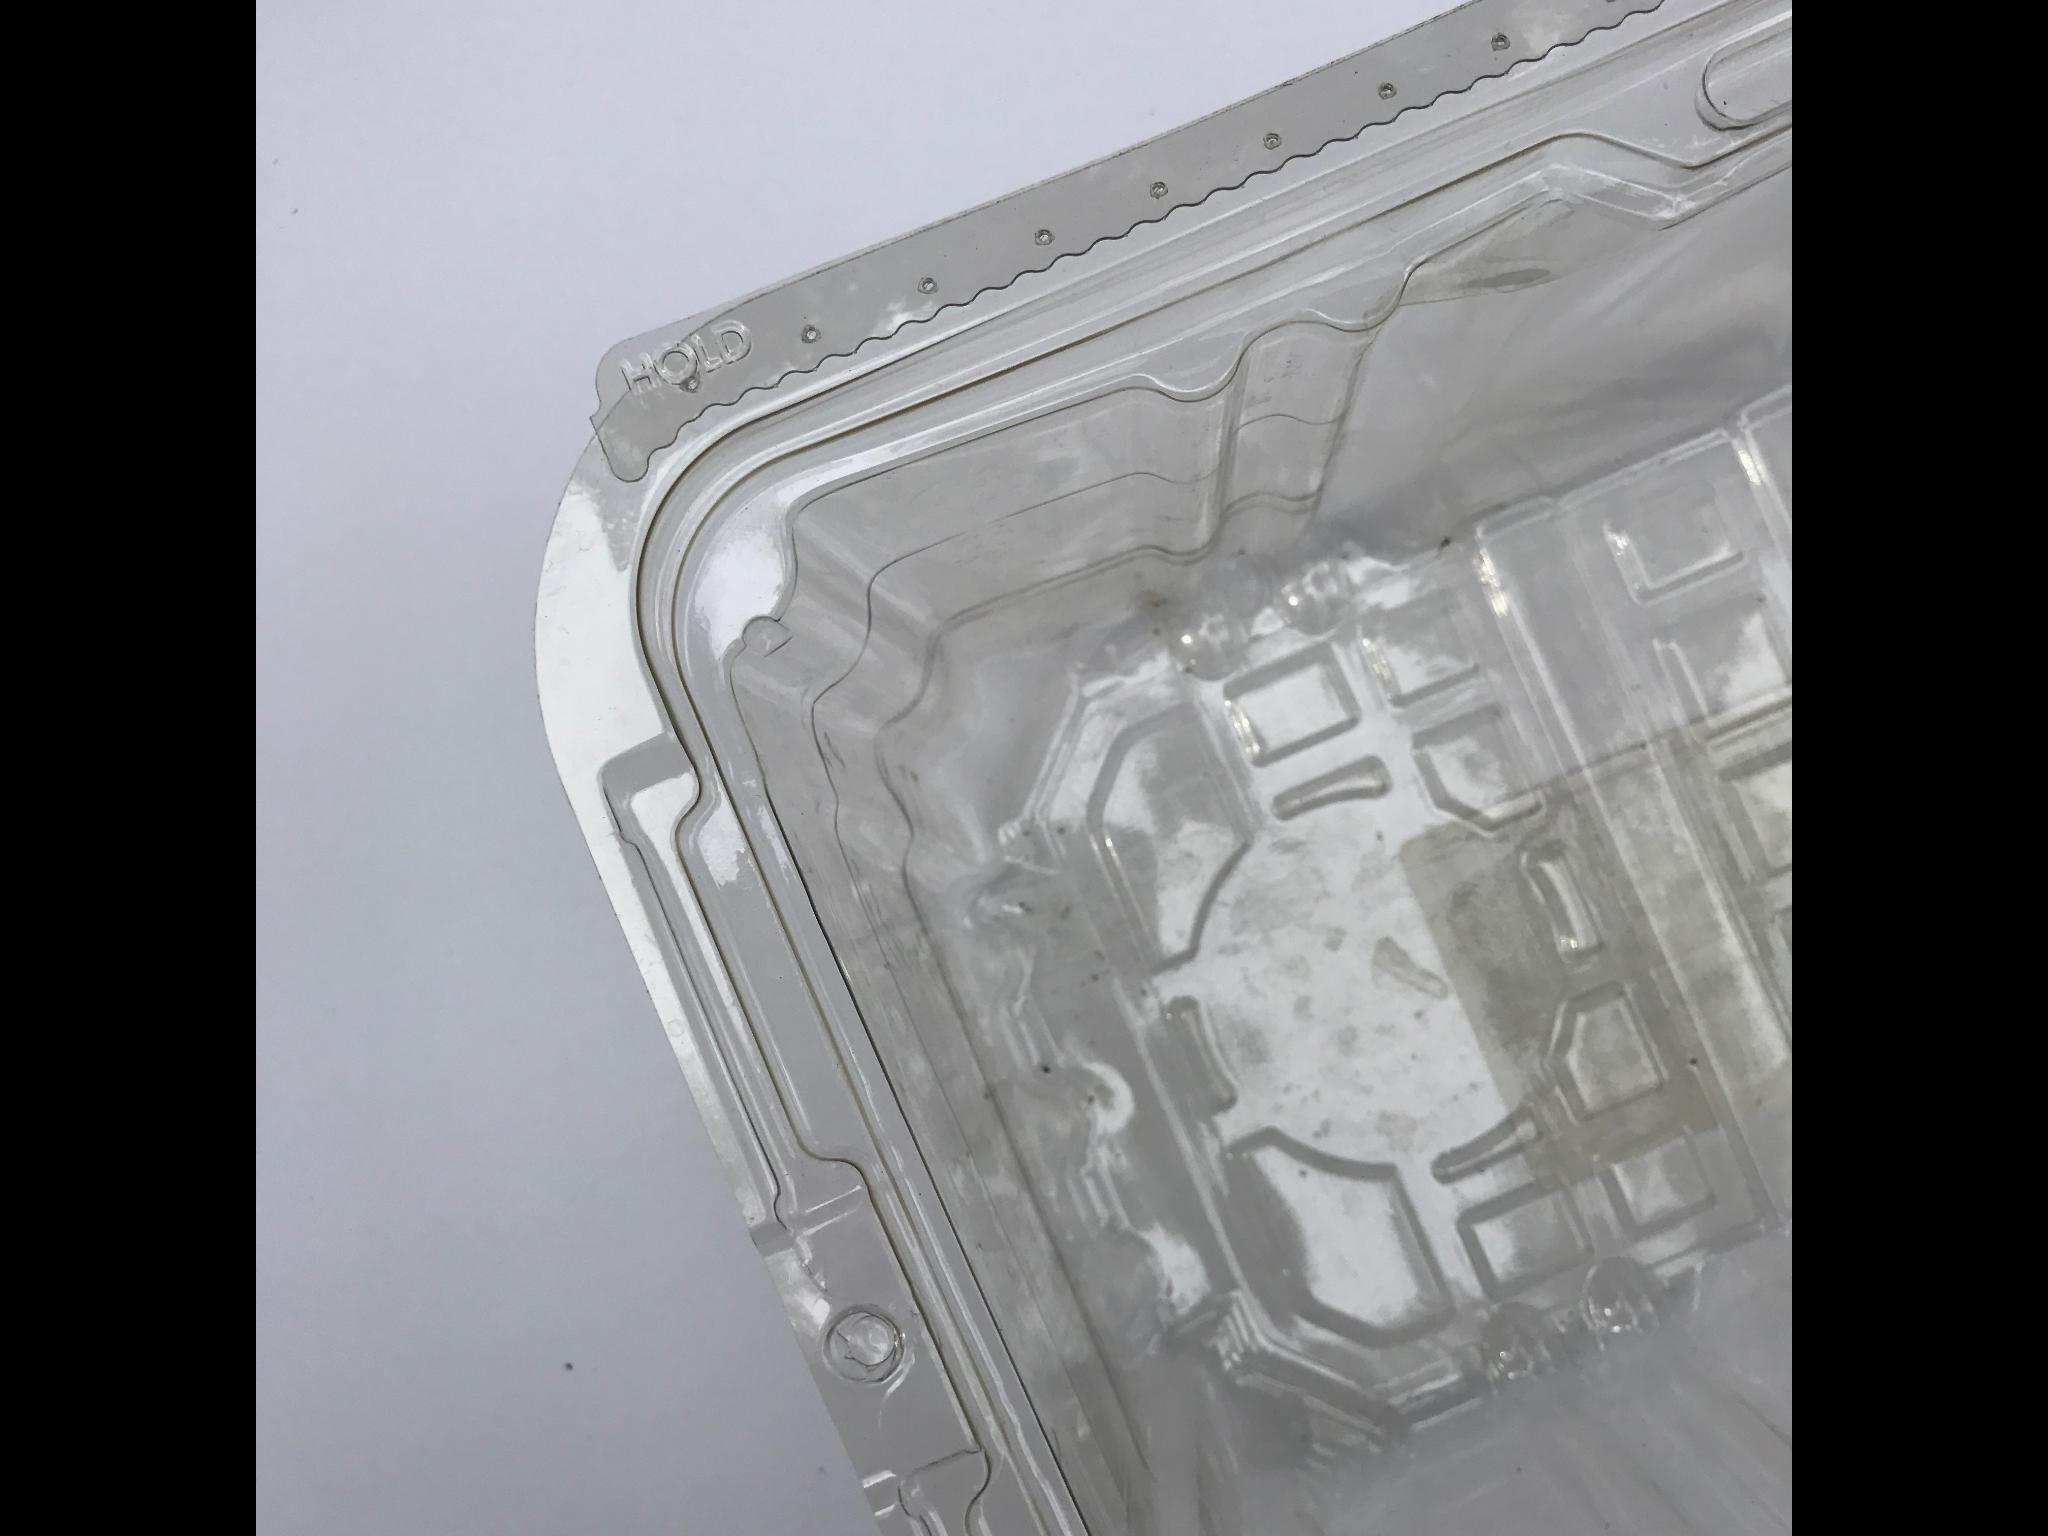Plastic: (518, 0, 1792, 1534)
